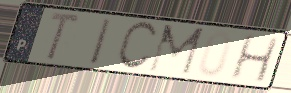0: (196, 30, 234, 80)
C: (114, 20, 160, 72)
H: (228, 33, 282, 84)
I: (88, 16, 115, 68)
M: (146, 23, 207, 77)
T: (43, 10, 83, 63)
